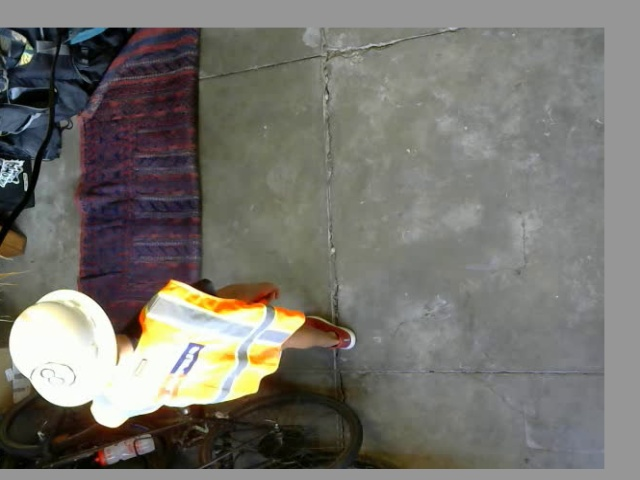eight: (31, 360, 76, 391)
